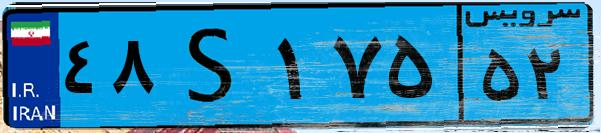1: (270, 28, 330, 110)
2: (525, 38, 570, 115)
4: (57, 26, 110, 100)
5: (385, 28, 445, 110), (475, 38, 525, 113)
7: (330, 28, 385, 110)
8: (110, 28, 158, 98)
S: (158, 12, 270, 120)
